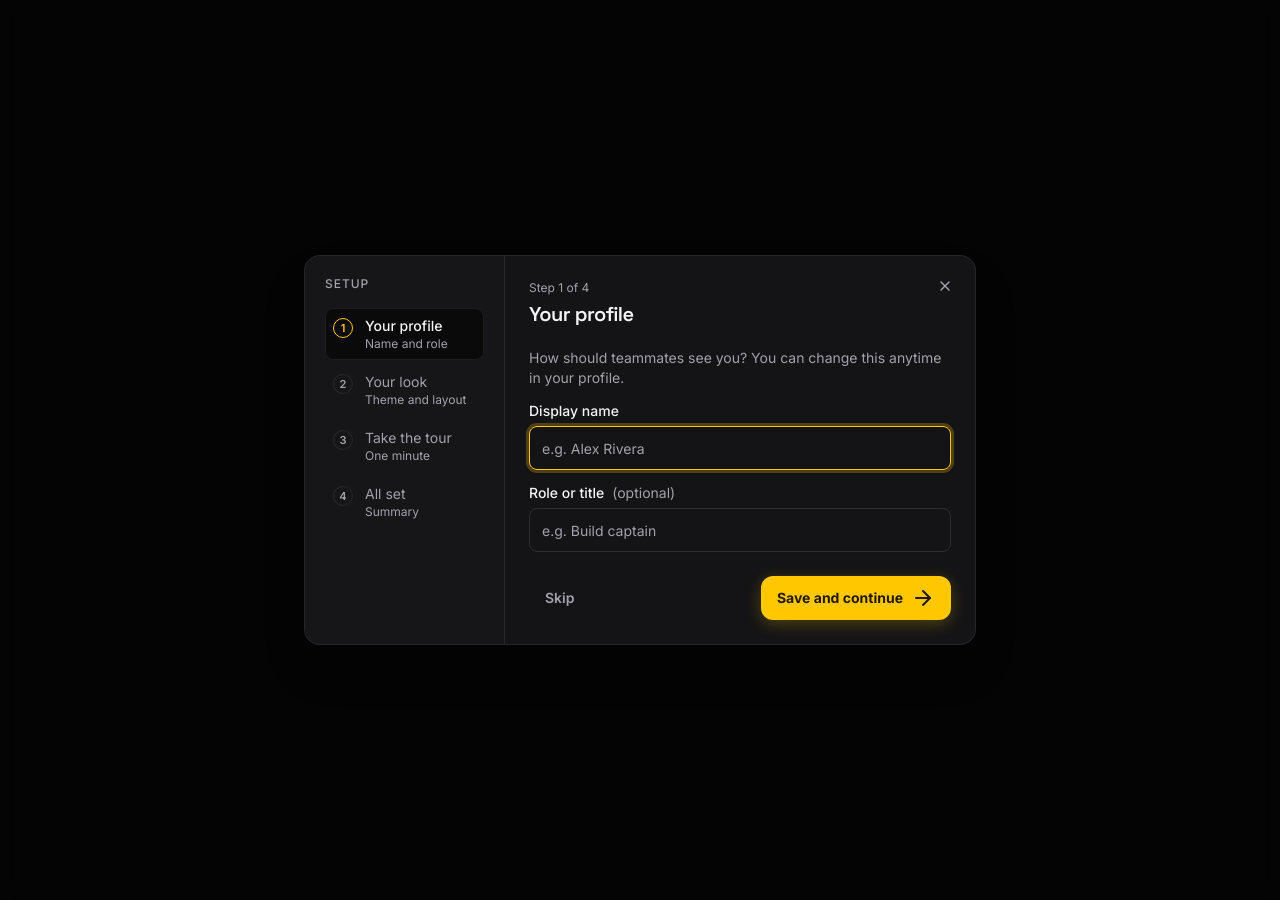
Test: Modern setup › while asking, the form behind the question is inert
Type "x" into the field labelled "Display name" at (740, 448), box [529,426,951,470]
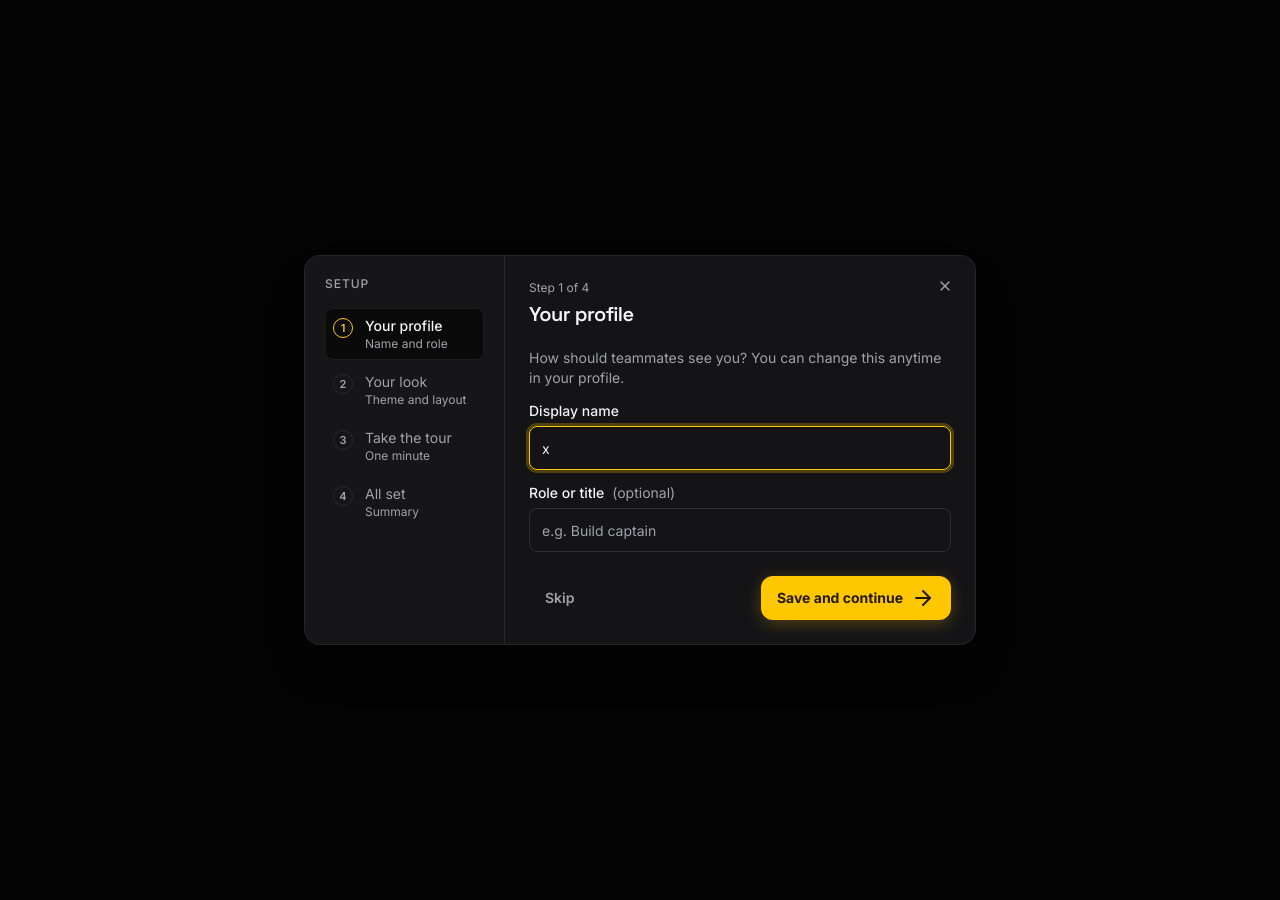
Press Escape in the field labelled "Display name", box [529,426,951,470]
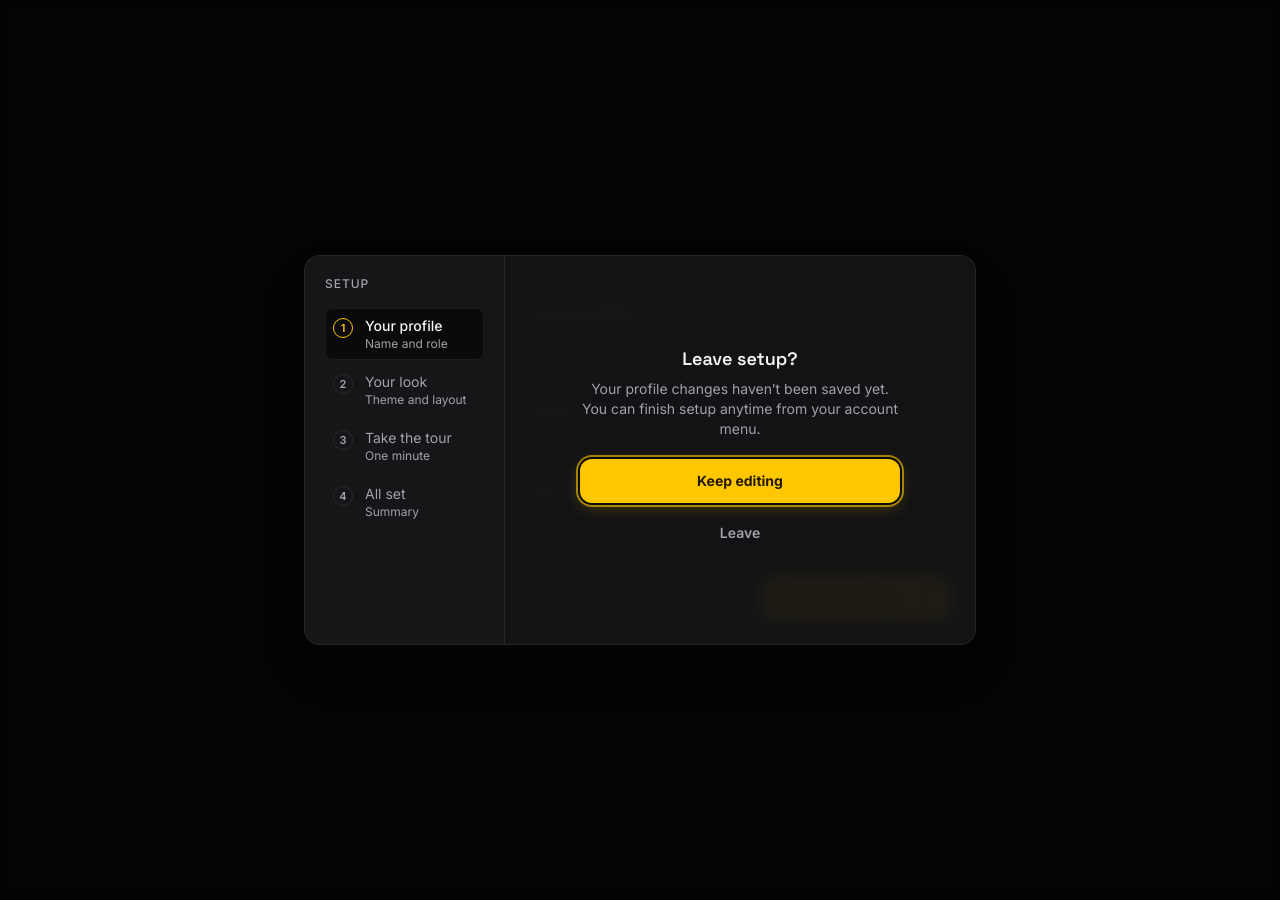
Expected: the element named "Display name" is shown, [529,280,951,620]
Now the dialog is shown, box [505,256,975,644]
